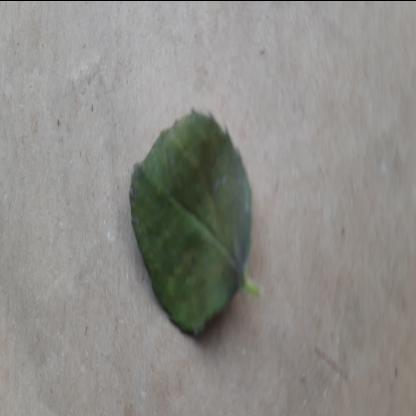powdery-mildew: (128, 102, 254, 346)
